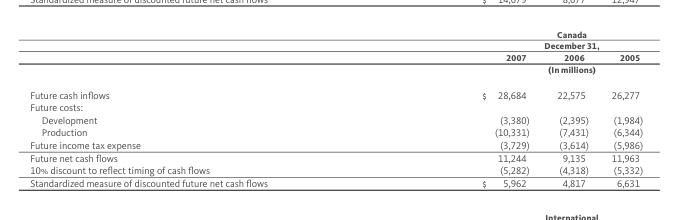table: (29, 28, 642, 188)
table column: (29, 28, 374, 188), (374, 28, 542, 188), (542, 28, 599, 188), (599, 28, 642, 188)
table column header: (29, 28, 642, 81)
table projected row header: (29, 100, 642, 113)
table row: (29, 28, 642, 51), (29, 81, 642, 100), (29, 63, 642, 81), (29, 100, 642, 113), (29, 125, 642, 138), (29, 150, 642, 163), (29, 163, 642, 176), (29, 51, 642, 63), (29, 113, 642, 125), (29, 138, 642, 150), (29, 176, 642, 188)
table spanning cell: (374, 28, 642, 51), (374, 63, 642, 81)
